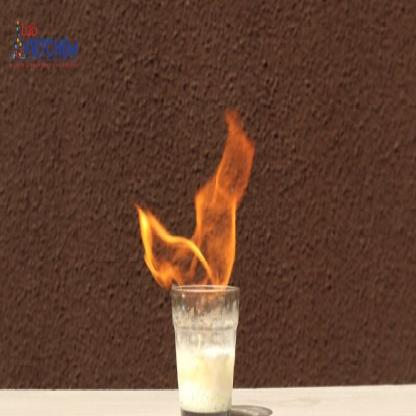fire: (136, 103, 261, 325)
